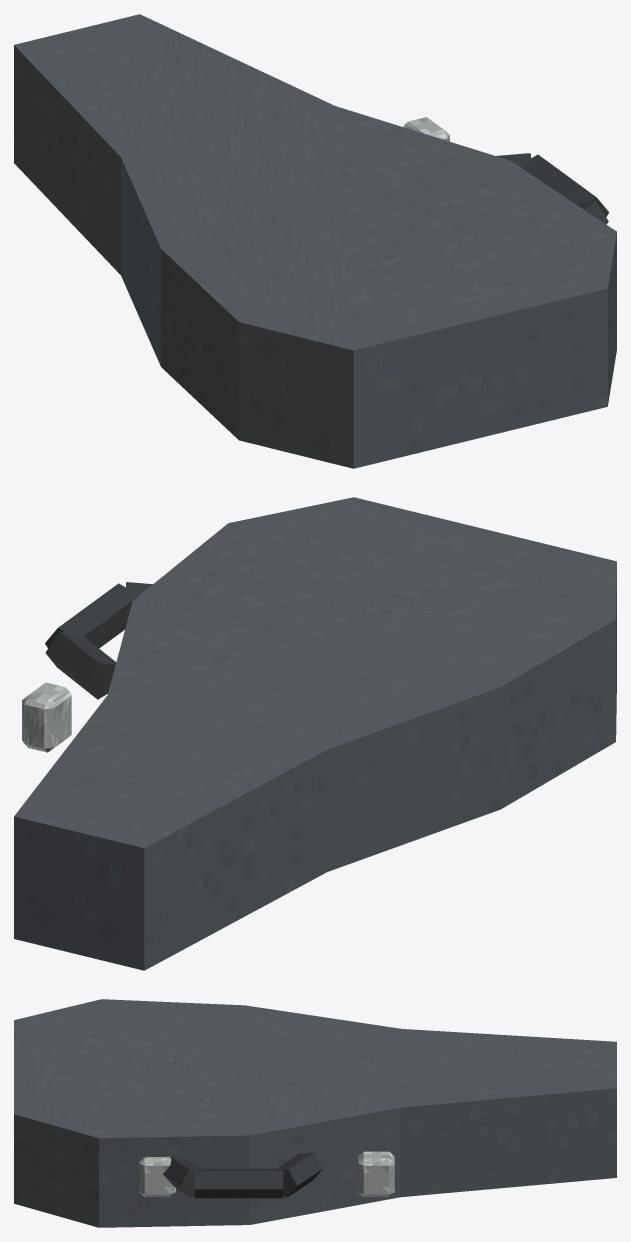
Rendered from case_violin.glb.
The picture shows the model from 3 angles, top to bottom: view 1: azimuth 30°, elevation 25°; view 2: azimuth 150°, elevation 25°; view 3: azimuth 270°, elevation 25°; orthographic projection. The views are drawn at different scales.
Parts seen in each view (by area): view 1: block_fitted carrying shell, block_carry handle 1; view 2: block_fitted carrying shell, block_case latch, block_carry handle 0, block_carry handle 1; view 3: block_fitted carrying shell, block_case latch (×2), block_carry handle 1, block_carry handle 0, block_carry handle 2.
Boxes of the visible parts, x1,y1,x2,y2 form: block_fitted carrying shell: (14, 14, 616, 468); block_carry handle 1: (522, 154, 608, 216); block_fitted carrying shell: (14, 497, 616, 970); block_case latch: (22, 682, 71, 752); block_carry handle 0: (45, 631, 116, 699); block_carry handle 1: (45, 583, 135, 648); block_fitted carrying shell: (14, 999, 616, 1227); block_case latch (×2): (139, 1151, 394, 1196); block_carry handle 1: (194, 1168, 283, 1198); block_carry handle 0: (277, 1152, 322, 1197); block_carry handle 2: (163, 1156, 200, 1197).
Bounding box in the file's own units: 0.2783 × 0.0729 × 0.4445.
1 material, 1 textured.
